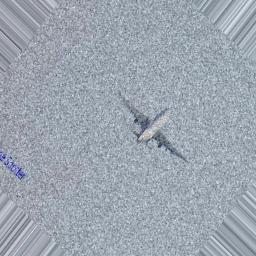Airplane: (118, 89, 191, 164)
